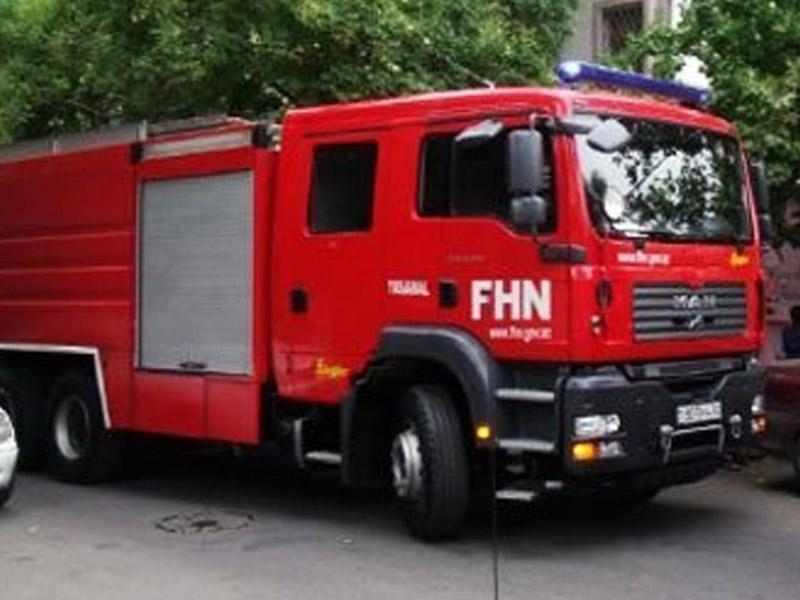Fire-engine: (321, 79, 771, 511)
